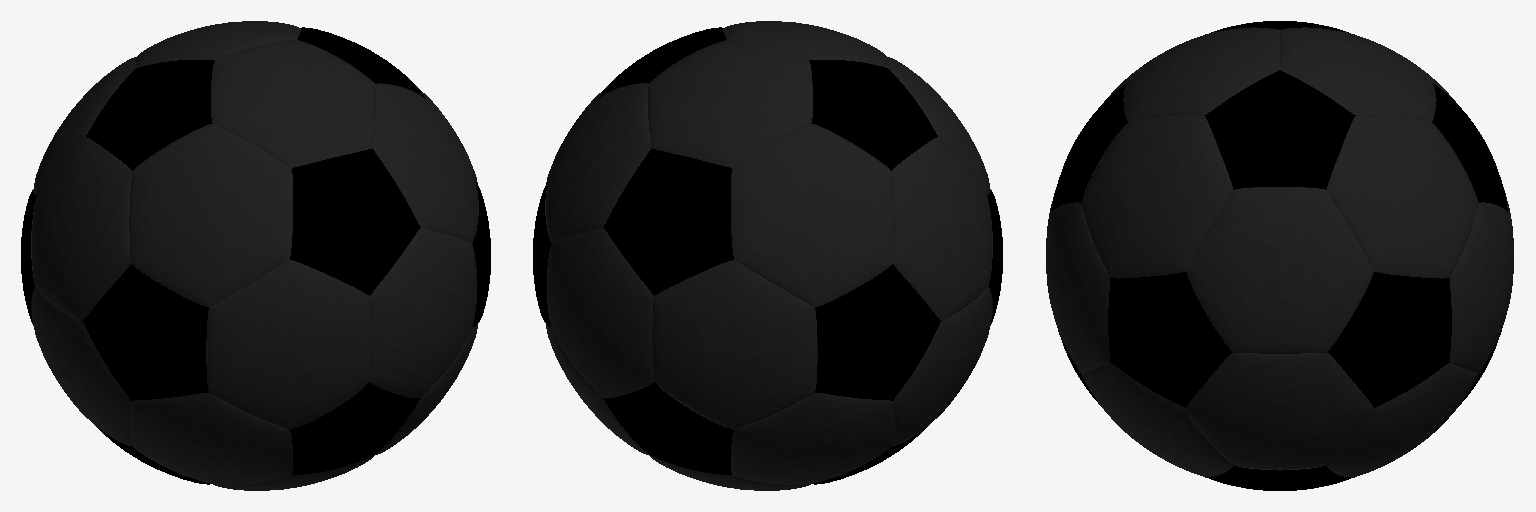
Rendered from soccerball_poser.obj.
3 views of the same model, side by side, from view 1: azimuth 30°, elevation 25°; view 2: azimuth 150°, elevation 25°; view 3: azimuth 270°, elevation 25° (orthographic).
Visible parts, largest first — view 1: soccerball; view 2: soccerball; view 3: soccerball.
Boxes of the visible parts, box(x1,y1,x2,y2) form: soccerball: box(21, 21, 490, 490); soccerball: box(533, 21, 1002, 490); soccerball: box(1046, 21, 1513, 490).
Bounding box in the file's own units: 0.1106 × 0.1106 × 0.1106.